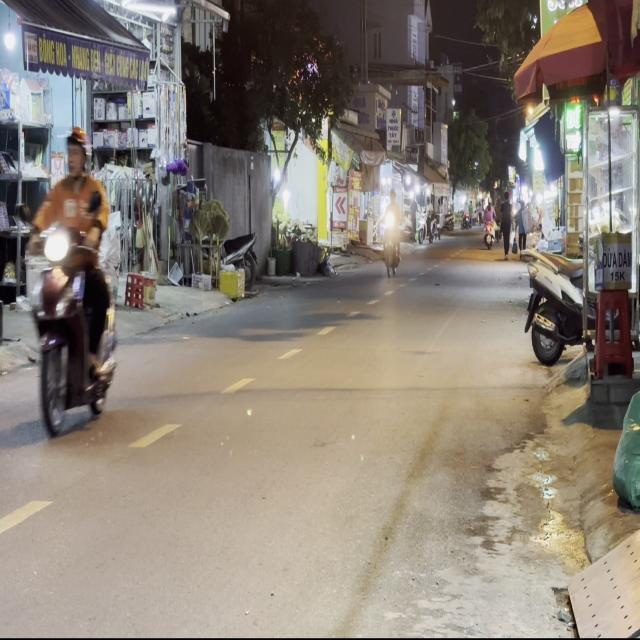helmet: (63, 124, 89, 176)
licenseplate: (22, 123, 120, 439)
